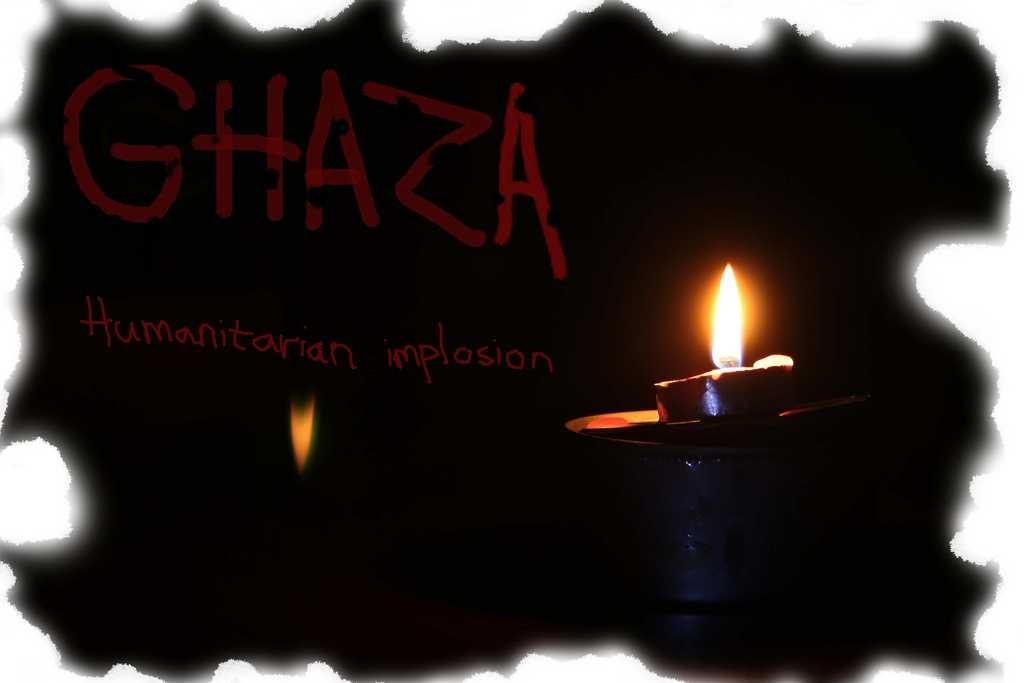smoke: (695, 280, 755, 370), (278, 397, 315, 448)
